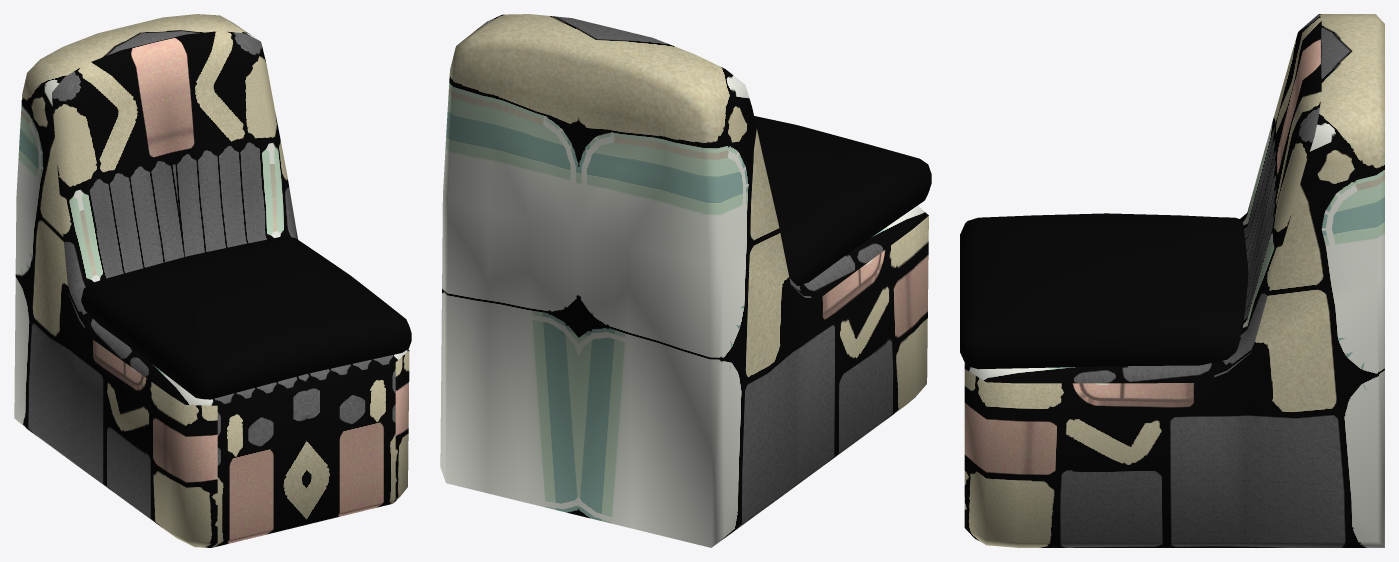
Rendered from Chair_02.fbx.
3 renders of one model, left to right at view 1: azimuth 30°, elevation 25°; view 2: azimuth 150°, elevation 25°; view 3: azimuth 270°, elevation 25°, orthographic. The views are drawn at different scales.
Visible parts, largest first — view 1: Chair_02_LOD0; view 2: Chair_02_LOD0; view 3: Chair_02_LOD0.
Part boxes in pixels (x1,y1,x2,y2): Chair_02_LOD0: [14, 14, 411, 547]; Chair_02_LOD0: [440, 14, 931, 547]; Chair_02_LOD0: [960, 14, 1384, 547].
Size of what is drawn, in the model's own units: 86.15 by 134 by 118.
